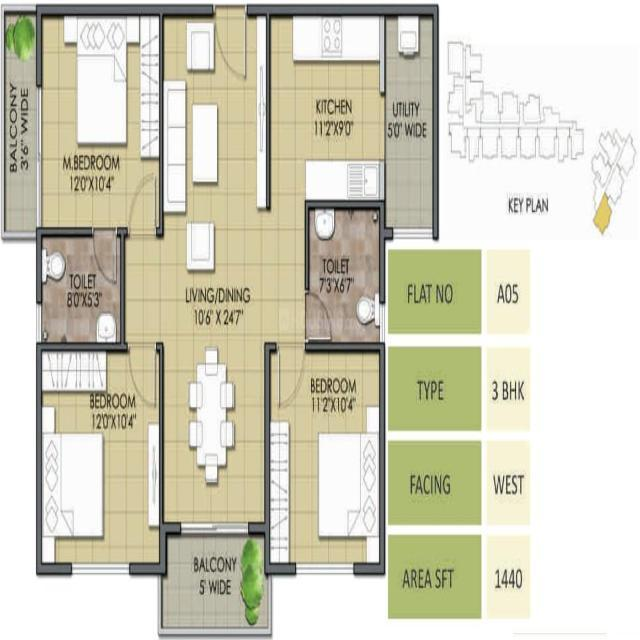Balcony-Sitout: (162, 530, 268, 629), (5, 10, 36, 233)
Bedroom: (42, 351, 160, 562), (269, 351, 378, 562)
Bedroom with Toilet: (39, 11, 161, 346)
Dining: (186, 342, 237, 488)
Enterance-Foyer: (214, 3, 248, 80)
Kitchen: (269, 12, 382, 204)
Living: (164, 16, 266, 332)
Toilet: (309, 208, 380, 341), (42, 237, 121, 344)
Utility: (385, 13, 433, 228)
